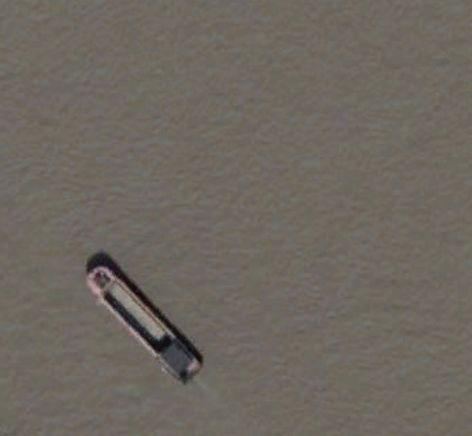Ships: (80, 252, 210, 386)
